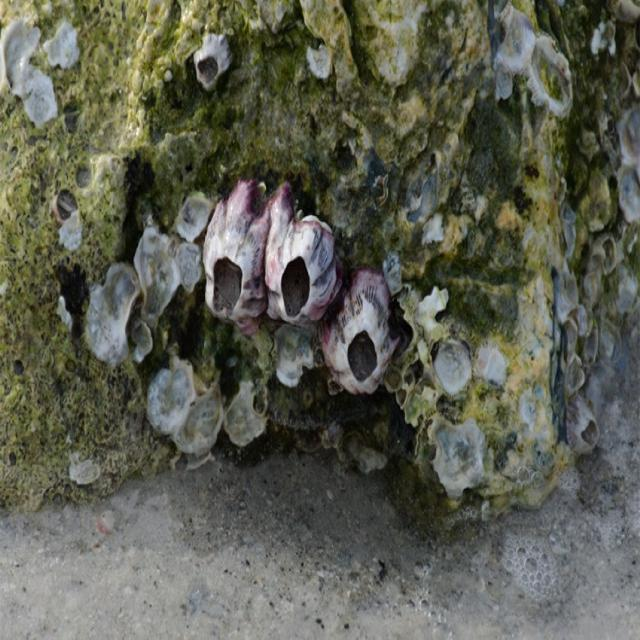barnacles: (264, 196, 341, 334), (322, 272, 398, 406), (201, 190, 264, 333)
